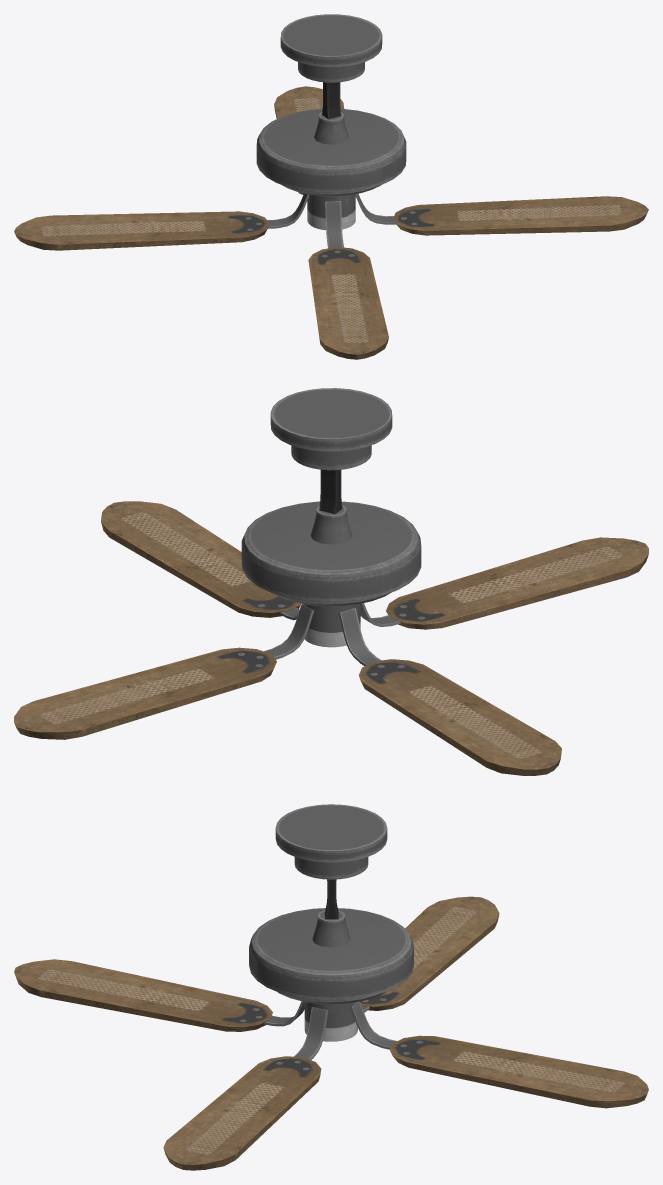
Rendered from SM_Fan.fbx.
3 views of the same model, one above another, from view 1: azimuth 30°, elevation 25°; view 2: azimuth 150°, elevation 25°; view 3: azimuth 270°, elevation 25° (orthographic). The views are drawn at different scales.
Visible parts, largest first — view 1: SM_Fan_LOD0; view 2: SM_Fan_LOD0; view 3: SM_Fan_LOD0.
Boxes of the visible parts, x1=… form: SM_Fan_LOD0: x1=14, y1=14, x2=648, y2=359; SM_Fan_LOD0: x1=14, y1=388, x2=648, y2=775; SM_Fan_LOD0: x1=14, y1=804, x2=648, y2=1170.
Size of the model in its own units: 176 by 176 by 64.46.
1 material, 1 textured.
